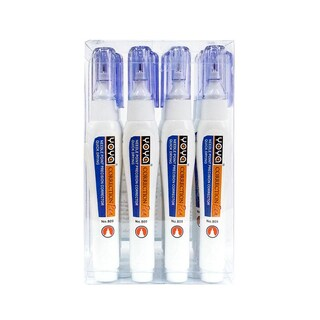Correction_fluid: (119, 43, 163, 285), (85, 46, 125, 283), (194, 42, 233, 281), (158, 44, 194, 285)
